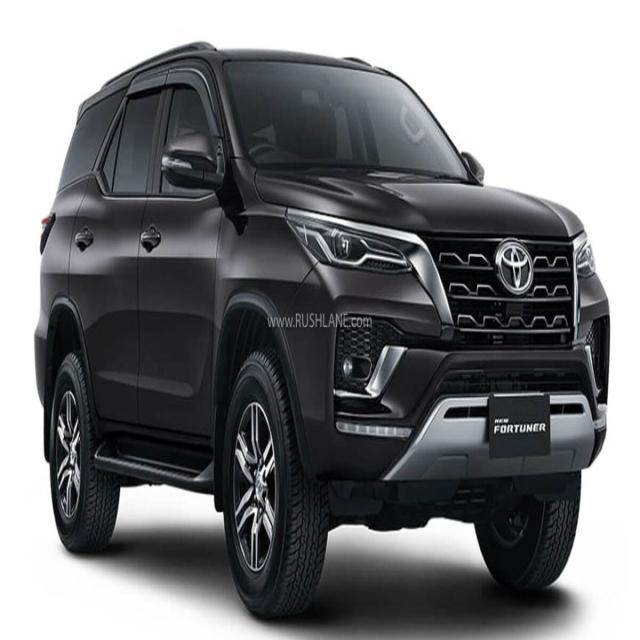light_vehicle: (33, 42, 610, 620)
